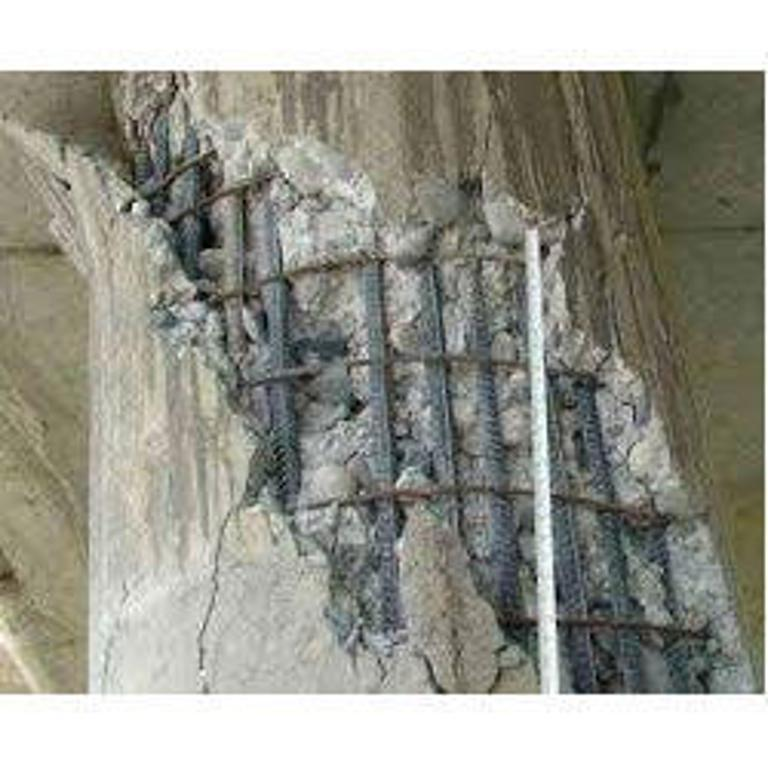exposed_rebar: (571, 371, 648, 696), (464, 262, 518, 609), (547, 381, 603, 701), (525, 225, 560, 694), (360, 261, 402, 650), (420, 264, 465, 486), (265, 279, 303, 502)
spalling: (132, 122, 759, 693)
